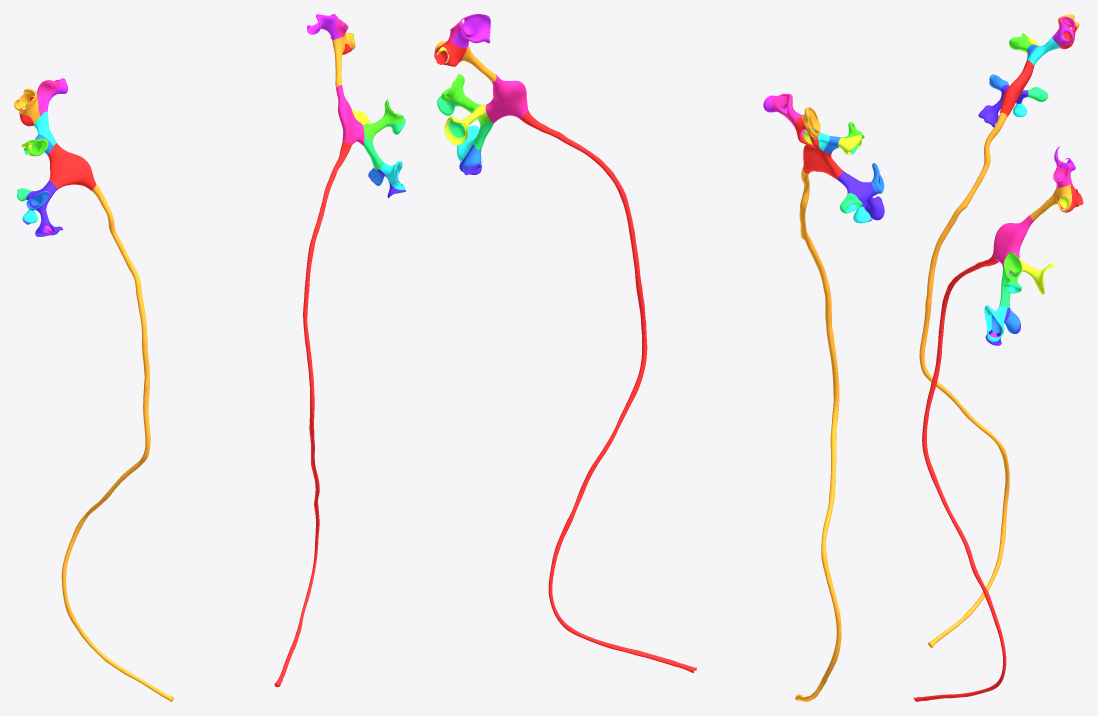
Rendered from harnleiter-female.glb.
The picture shows the model from 3 angles, left to right: view 1: azimuth 30°, elevation 25°; view 2: azimuth 150°, elevation 25°; view 3: azimuth 270°, elevation 25°; orthographic projection. The views are drawn at different scales.
Parts seen in each view (by area): view 1: 0:60:VH_F_right_ureter, 0:17:VH_F_left_ureter, 0:59:VH_F_renal_pelvis_R, 0:30:VH_F_renal_pelvis_L; view 2: 0:17:VH_F_left_ureter, 0:60:VH_F_right_ureter, 0:30:VH_F_renal_pelvis_L, 0:59:VH_F_renal_pelvis_R, 0:5:VH_F_minor_calyx_L_a; view 3: 0:60:VH_F_right_ureter, 0:17:VH_F_left_ureter, 0:30:VH_F_renal_pelvis_L, 0:59:VH_F_renal_pelvis_R, 0:12:VH_F_minor_calyx_L_h, 0:45:VH_F_minor_calyx_R_j, 0:32:VH_F_major_calyx_R_a, 0:0:VH_F_major_calyx_L_a, 0:41:VH_F_minor_calyx_R_f.
Boxes of the visible parts, x1=… form: 0:60:VH_F_right_ureter: x1=61, y1=184, x2=173, y2=701; 0:17:VH_F_left_ureter: x1=274, y1=142, x2=351, y2=686; 0:59:VH_F_renal_pelvis_R: x1=47, y1=143, x2=96, y2=190; 0:30:VH_F_renal_pelvis_L: x1=336, y1=85, x2=364, y2=145; 0:17:VH_F_left_ureter: x1=520, y1=110, x2=696, y2=672; 0:60:VH_F_right_ureter: x1=795, y1=167, x2=841, y2=701; 0:30:VH_F_renal_pelvis_L: x1=485, y1=74, x2=527, y2=122; 0:59:VH_F_renal_pelvis_R: x1=803, y1=144, x2=843, y2=179; 0:5:VH_F_minor_calyx_L_a: x1=452, y1=14, x2=490, y2=48; 0:60:VH_F_right_ureter: x1=919, y1=112, x2=1009, y2=647; 0:17:VH_F_left_ureter: x1=913, y1=253, x2=1006, y2=701; 0:30:VH_F_renal_pelvis_L: x1=993, y1=215, x2=1033, y2=274; 0:59:VH_F_renal_pelvis_R: x1=1000, y1=60, x2=1034, y2=116; 0:12:VH_F_minor_calyx_L_h: x1=984, y1=305, x2=1007, y2=341; 0:45:VH_F_minor_calyx_R_j: x1=978, y1=100, x2=1001, y2=127; 0:32:VH_F_major_calyx_R_a: x1=1027, y1=37, x2=1059, y2=65; 0:0:VH_F_major_calyx_L_a: x1=1030, y1=186, x2=1058, y2=221; 0:41:VH_F_minor_calyx_R_f: x1=1009, y1=33, x2=1032, y2=51.
Bounding box in the file's own units: 0.1784 × 0.266 × 0.0672.
